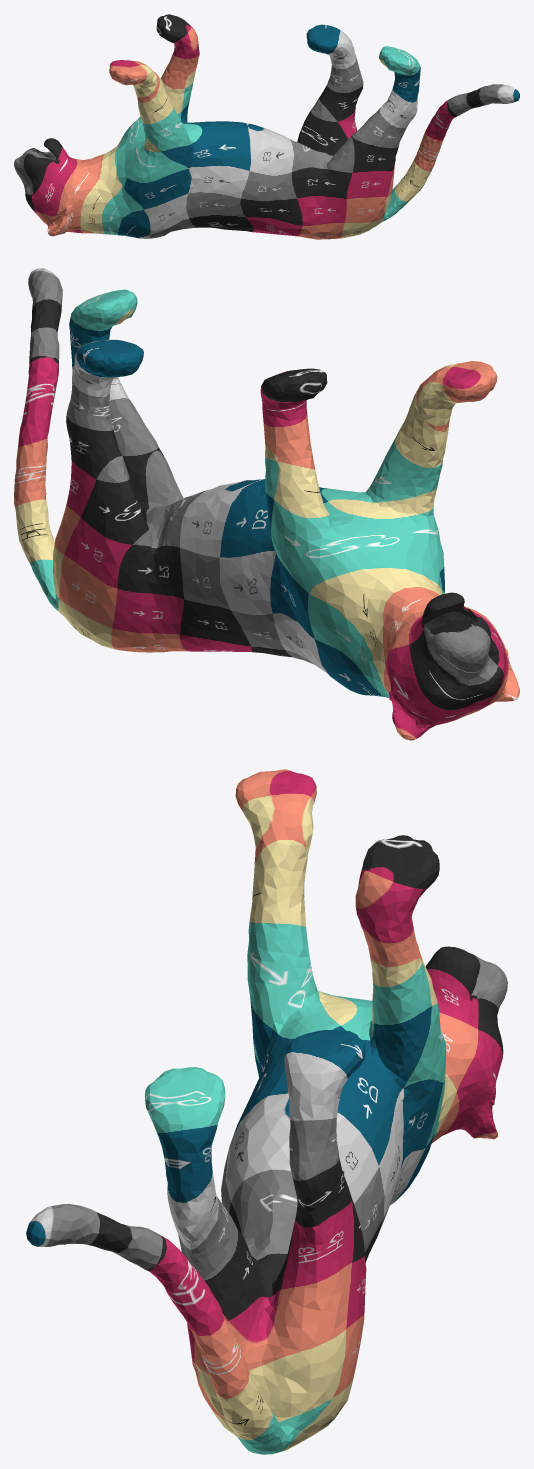
Rendered from horse_05-cougar_01.obj.
3 views of the same model, one above another, from view 1: azimuth 30°, elevation 25°; view 2: azimuth 150°, elevation 25°; view 3: azimuth 270°, elevation 25° (orthographic). The views are drawn at different scales.
Visible parts, largest first — view 1: horse_05-cougar_01_export; view 2: horse_05-cougar_01_export; view 3: horse_05-cougar_01_export.
Boxes of the visible parts, left/top/right/bottom form: horse_05-cougar_01_export: left=14, top=14, right=519, bottom=239; horse_05-cougar_01_export: left=14, top=268, right=519, bottom=740; horse_05-cougar_01_export: left=26, top=769, right=507, bottom=1454.
Bounding box in the file's own units: 1.06 × 0.5852 × 0.5632.
